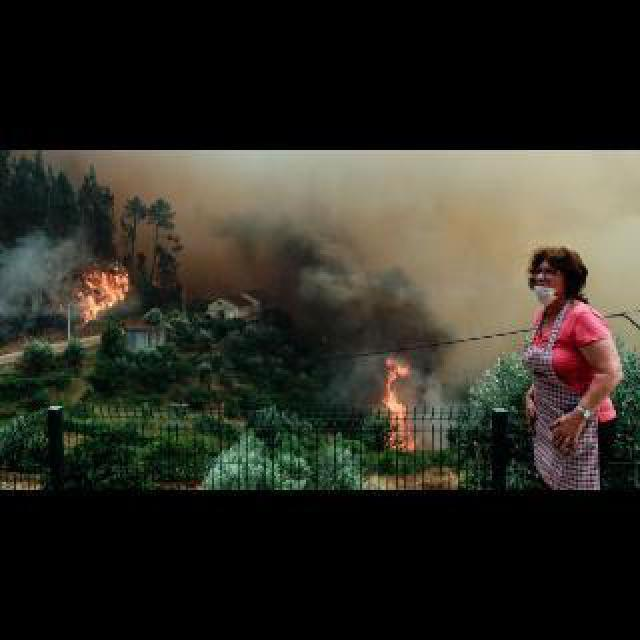Fire: (54, 256, 152, 326), (372, 354, 434, 450)
